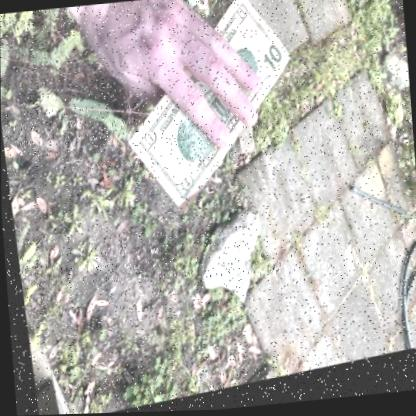ten-back: (126, 0, 291, 220)
